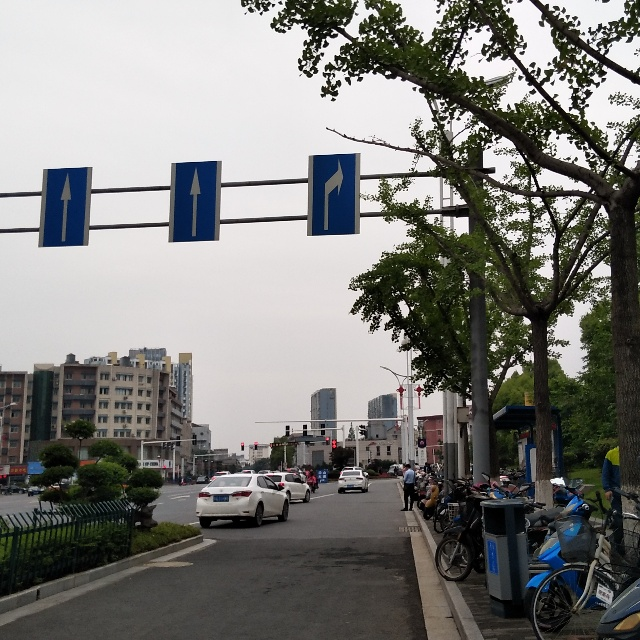right: (313, 157, 352, 232)
straight: (43, 169, 86, 247), (172, 167, 214, 242)
